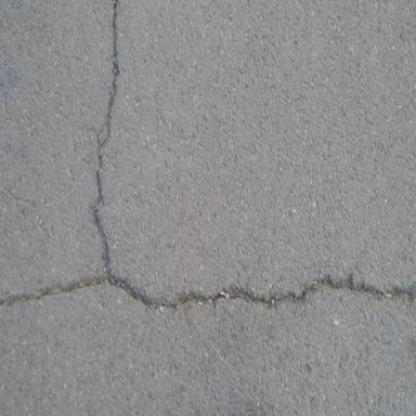Cracks: (1, 262, 415, 321), (82, 0, 136, 290)
